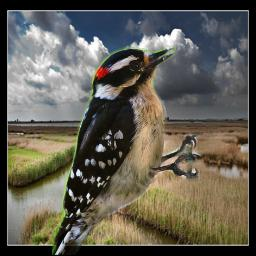Woodpecker: (52, 46, 201, 255)
